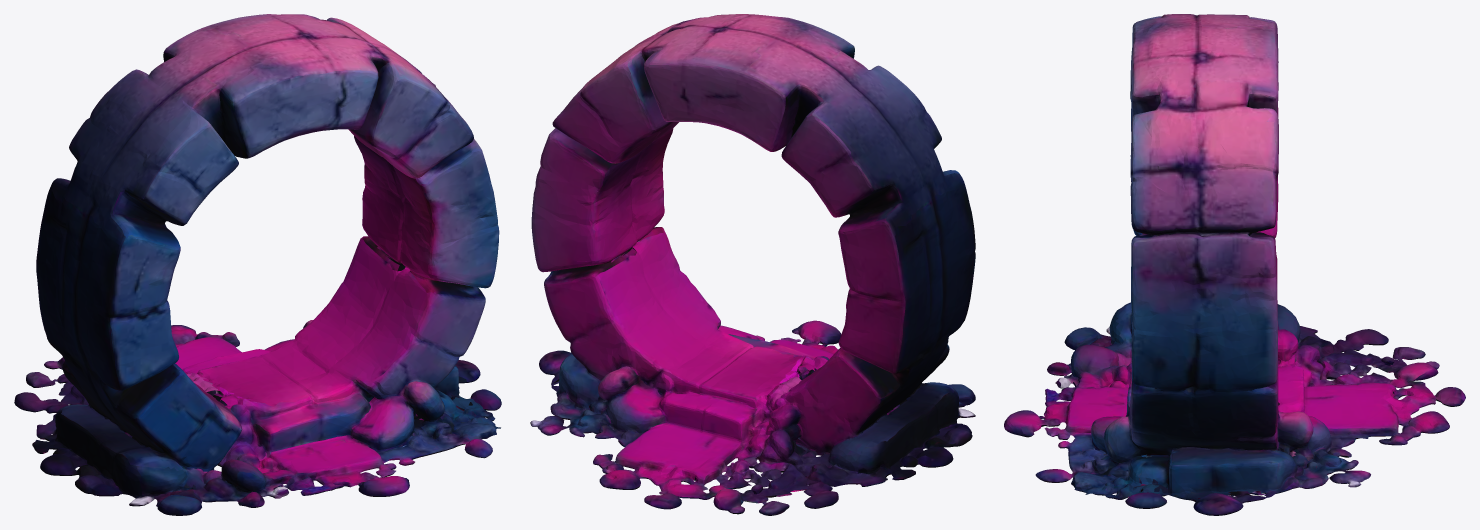
File: ring-fragment-west-generated-2026-04-20T00-06-05-730Z.low.glb
3 views of the same model, side by side, from view 1: azimuth 30°, elevation 25°; view 2: azimuth 150°, elevation 25°; view 3: azimuth 270°, elevation 25° (orthographic). The views are drawn at different scales.
Visible parts, largest first — view 1: temp_mesh.ply; view 2: temp_mesh.ply; view 3: temp_mesh.ply.
Part boxes in pixels (bbox=[...]): temp_mesh.ply: bbox=[14, 14, 501, 515]; temp_mesh.ply: bbox=[530, 14, 975, 515]; temp_mesh.ply: bbox=[1004, 14, 1465, 515].
Size of the model in its own units: 1.97 by 1.71 by 1.88.
1 material, 1 textured.
